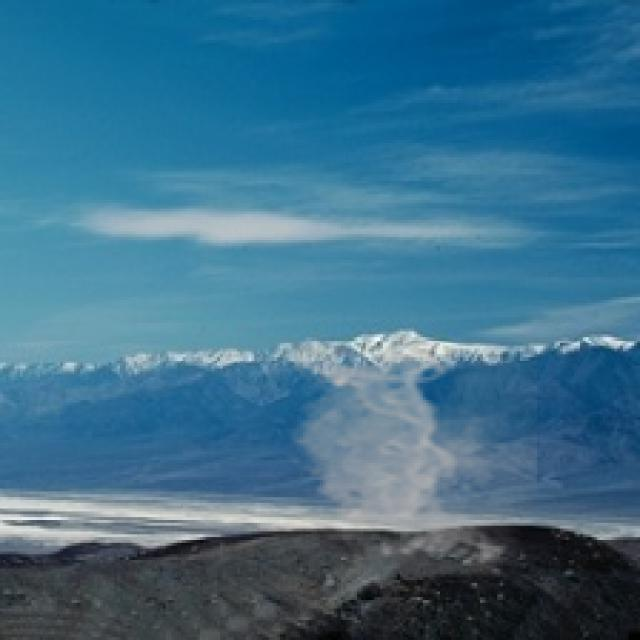smoke: (286, 343, 537, 571)
